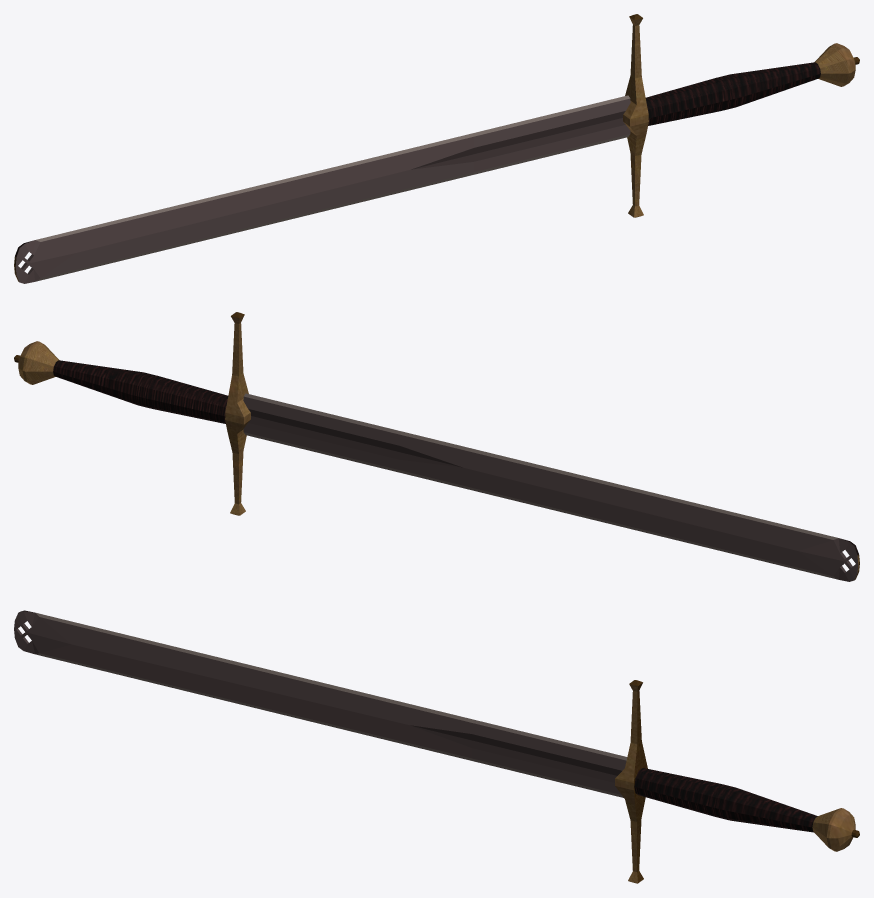
Rendered from ExecutionersSword.fbx.
The picture shows the model from 3 angles, top to bottom: view 1: azimuth 30°, elevation 25°; view 2: azimuth 150°, elevation 25°; view 3: azimuth 330°, elevation 25°; orthographic projection.
Visible parts, largest first — view 1: ZomboidExecutionersSword; view 2: ZomboidExecutionersSword; view 3: ZomboidExecutionersSword.
Boxes of the visible parts, x1,y1,x2,y2 form: ZomboidExecutionersSword: (14,14,859,283); ZomboidExecutionersSword: (14,312,859,581); ZomboidExecutionersSword: (14,610,859,883).
Bounding box in the file's own units: 0.7534 × 0.1717 × 0.0343.
